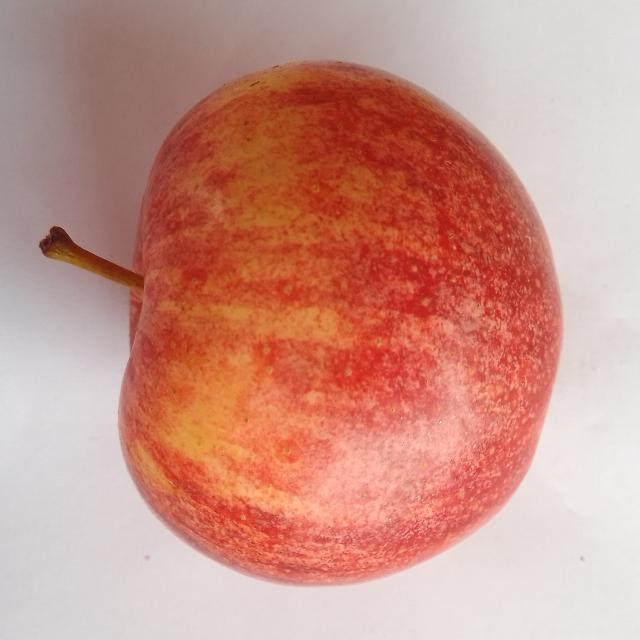Fresh Apple: (117, 68, 555, 595)
